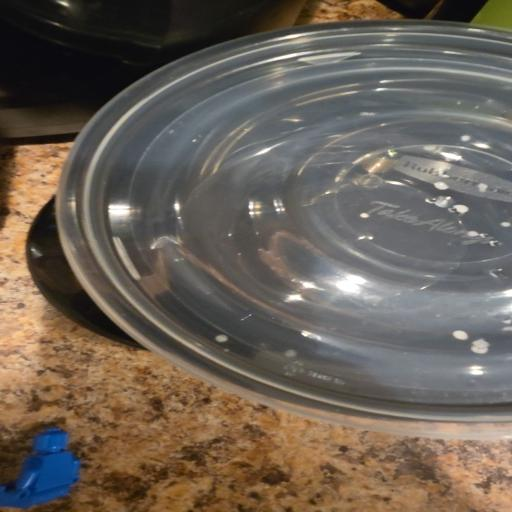Blue: (0, 428, 80, 508)
